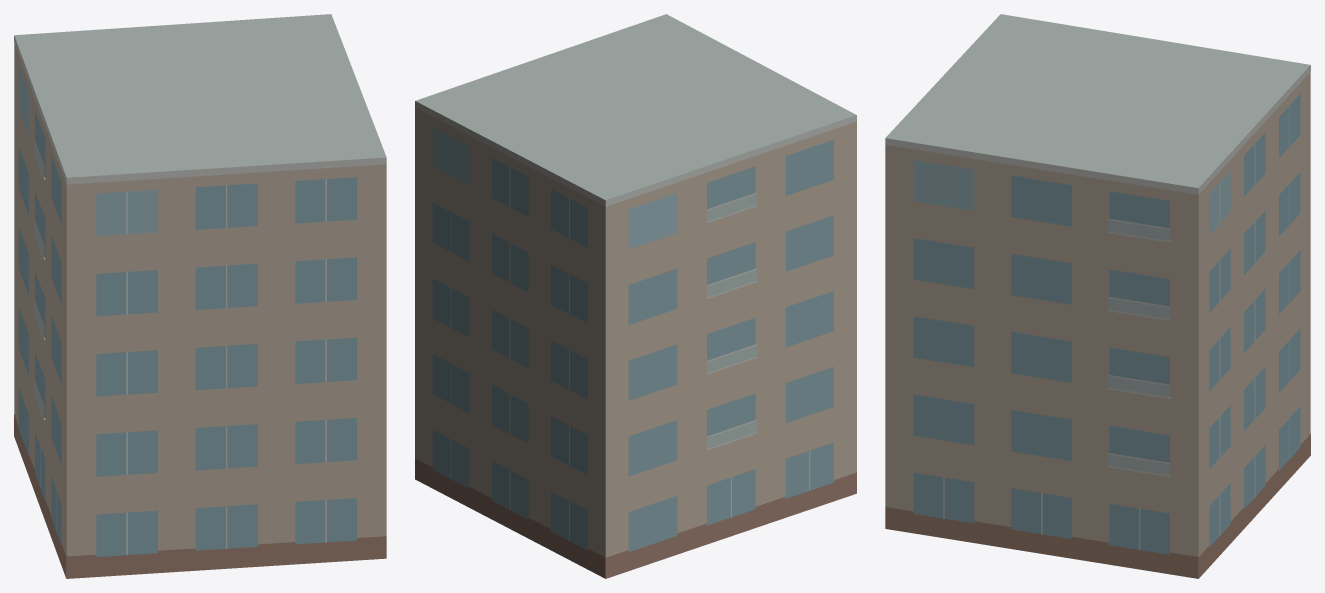
Rendered from survey-upis-33024764.glb.
3 renders of one model, left to right at view 1: azimuth 30°, elevation 25°; view 2: azimuth 150°, elevation 25°; view 3: azimuth 270°, elevation 25°, orthographic. The views are drawn at different scales.
Parts seen in each view (by area): view 1: survey-upis-33024764.tmp; view 2: survey-upis-33024764.tmp; view 3: survey-upis-33024764.tmp.
Boxes of the visible parts, <box> form: survey-upis-33024764.tmp: <box>14,14,386,578</box>; survey-upis-33024764.tmp: <box>415,14,856,578</box>; survey-upis-33024764.tmp: <box>885,14,1310,578</box>.
Bounding box in the file's own units: 13.64 × 14.25 × 14.08.
